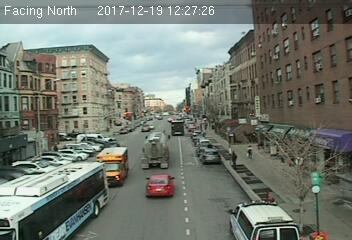car: (144, 172, 175, 195), (199, 146, 219, 161)
police: (227, 198, 303, 240)
truck: (96, 146, 130, 186), (140, 131, 170, 170)
ups: (170, 120, 185, 136)
